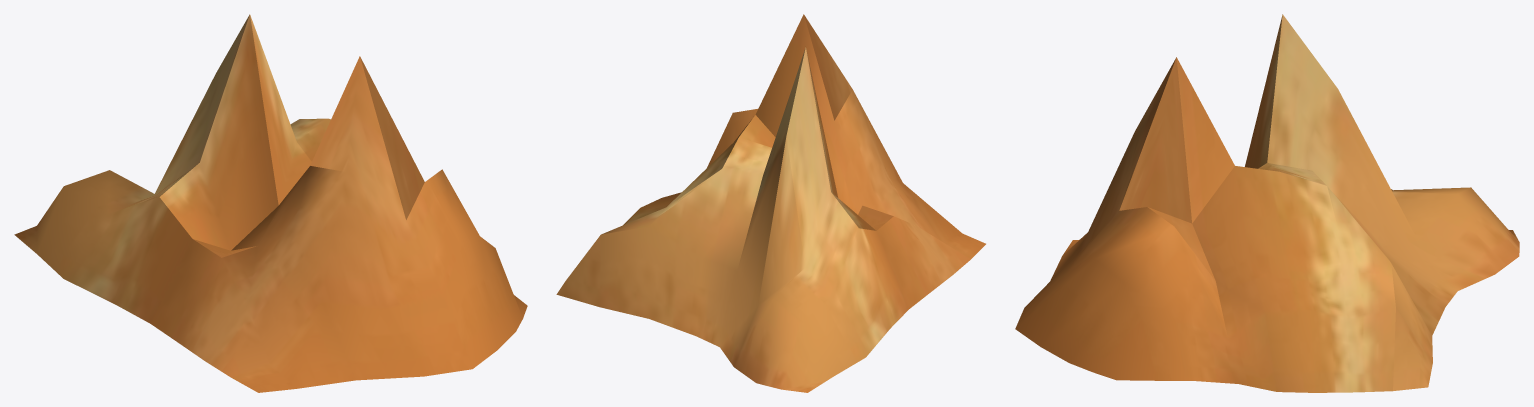
Rendered from stalagmite_002.fbx.
3 views of the same model, side by side, from view 1: azimuth 30°, elevation 25°; view 2: azimuth 150°, elevation 25°; view 3: azimuth 270°, elevation 25° (orthographic). The views are drawn at different scales.
Parts seen in each view (by area): view 1: stalagmite.002; view 2: stalagmite.002; view 3: stalagmite.002.
Boxes of the visible parts, x1,y1,x2,y2 form: stalagmite.002: [14, 14, 527, 392]; stalagmite.002: [556, 14, 985, 392]; stalagmite.002: [1015, 14, 1519, 392].
Size of the model in its own units: 179 by 136 by 228.
